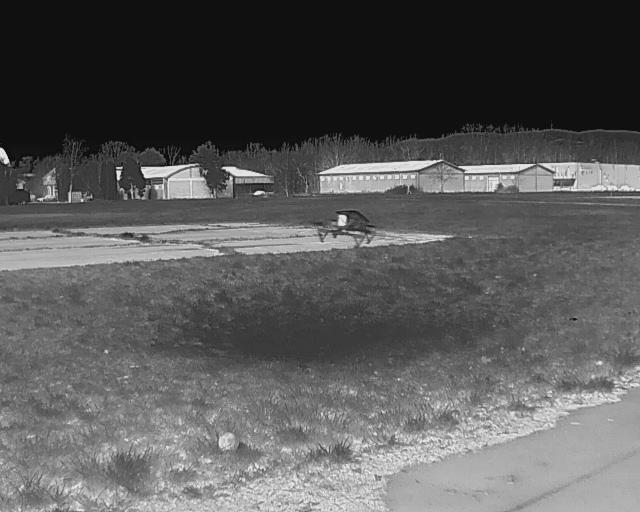drone: (303, 201, 393, 256)
